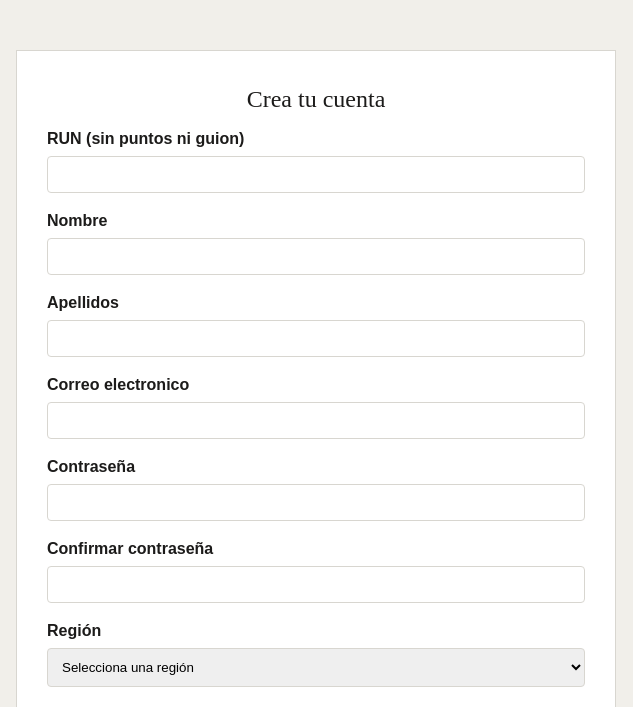
Scenario: Registro › rechaza contraseñas que no coinciden
Type "1234" into the password field labelled "Contraseña" at (316, 502), box [47,484,585,521]
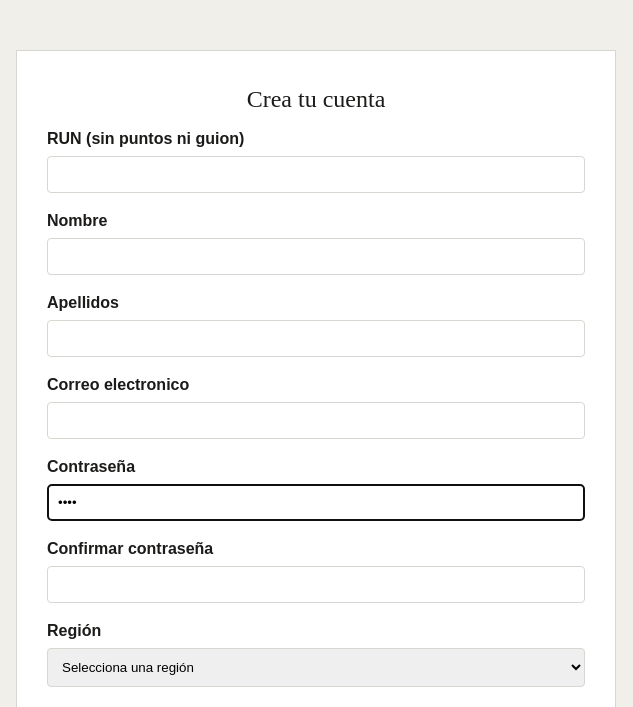
Type "9999" into the password field labelled "Confirmar contraseña" at (316, 584), box [47,566,585,603]
(page scrolled)
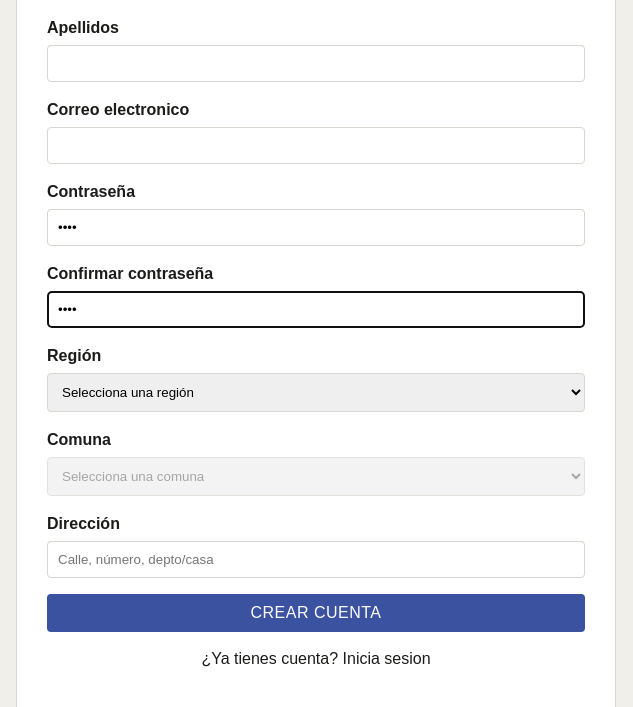
Click the button "Crear cuenta" at (316, 613), box [47,594,585,632]
(page scrolled)
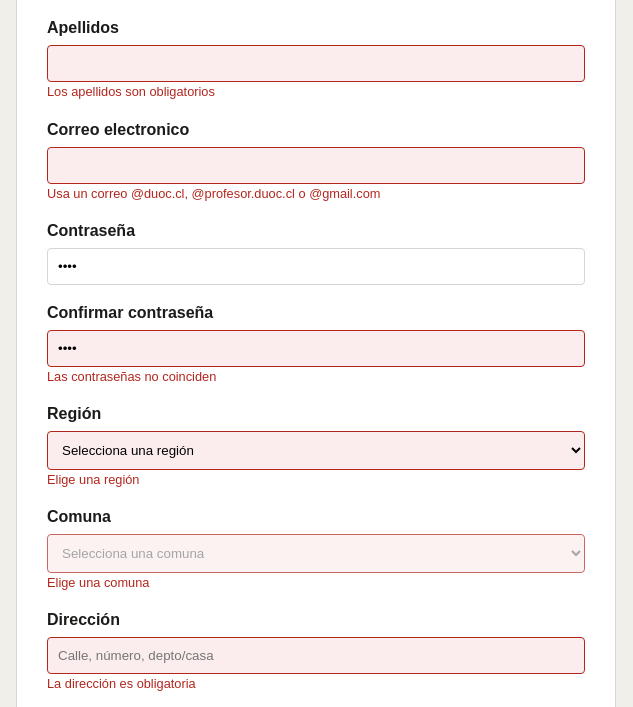
Expected: the text "Las contraseñas no coinciden" is shown, [47,369,216,384]
